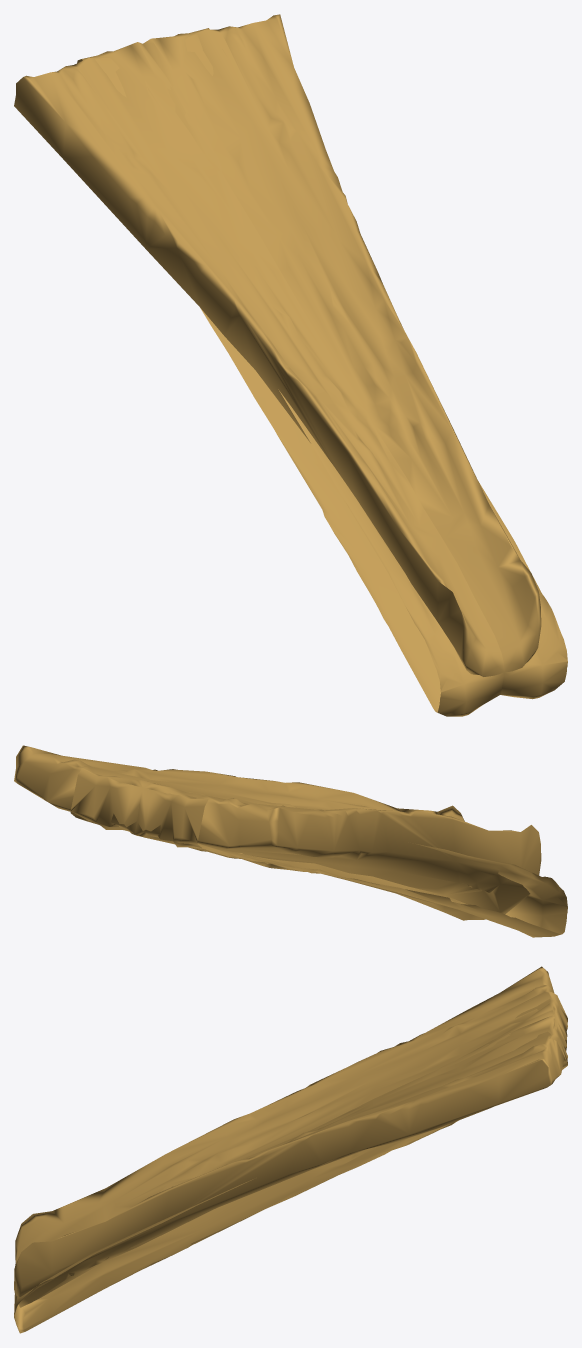
The picture shows the model from 3 angles, top to bottom: view 1: azimuth 30°, elevation 25°; view 2: azimuth 150°, elevation 25°; view 3: azimuth 270°, elevation 25°; orthographic projection. The views are drawn at different scales.
Parts seen in each view (by area): view 1: 环甲正中韧带; view 2: 环甲正中韧带; view 3: 环甲正中韧带.
Part boxes in pixels (bbox=[...]): 环甲正中韧带: bbox=[14, 14, 567, 716]; 环甲正中韧带: bbox=[14, 745, 567, 937]; 环甲正中韧带: bbox=[14, 966, 567, 1333].
Size of the model in its own units: 0.00781 by 0.0115 by 0.019.
